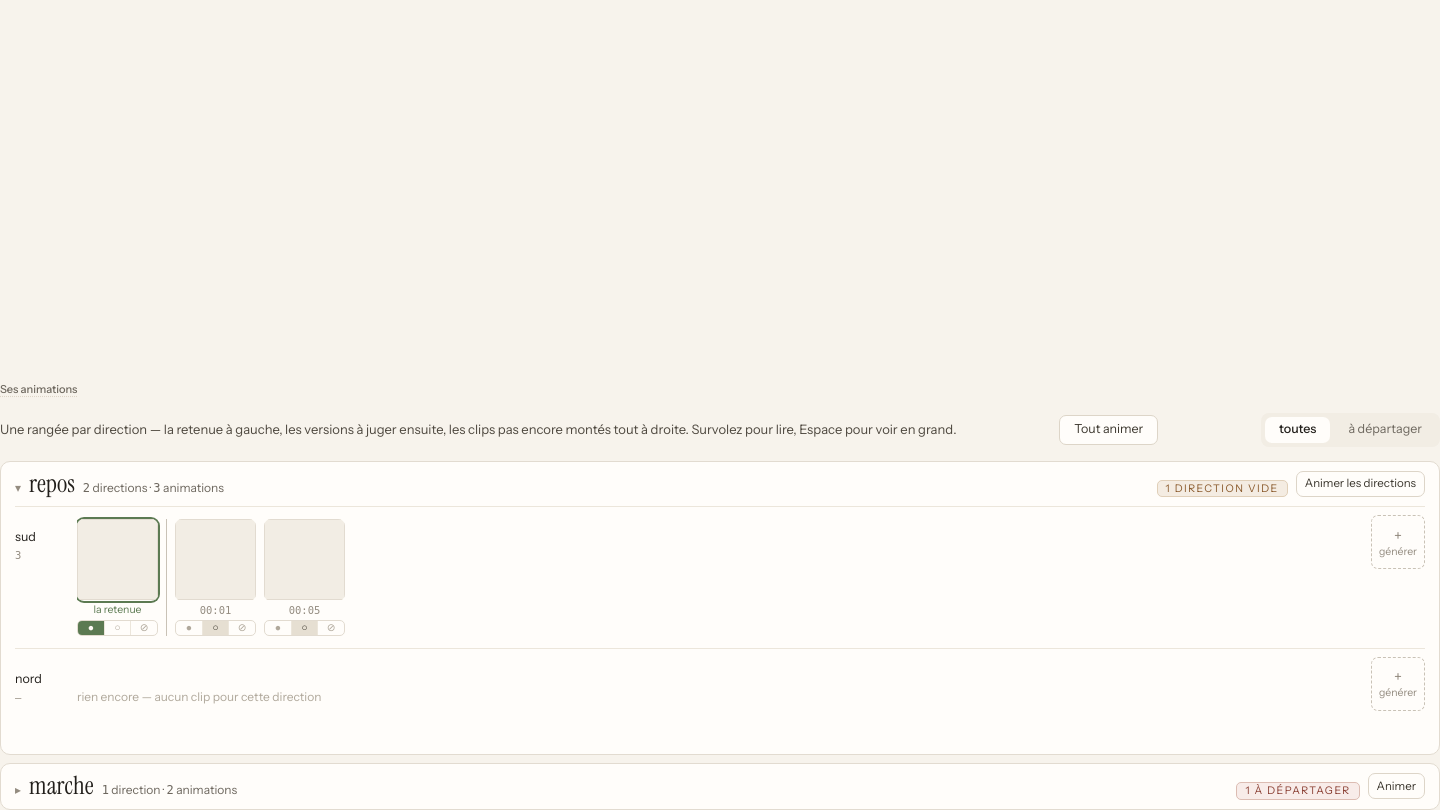
les deux filtres › « à départager » ne garde que les poses où plusieurs bandes se disputent la case
(page scrolled)
Click the tab "à départager" at (1385, 430), box [1334,416,1436,442]
(page scrolled)
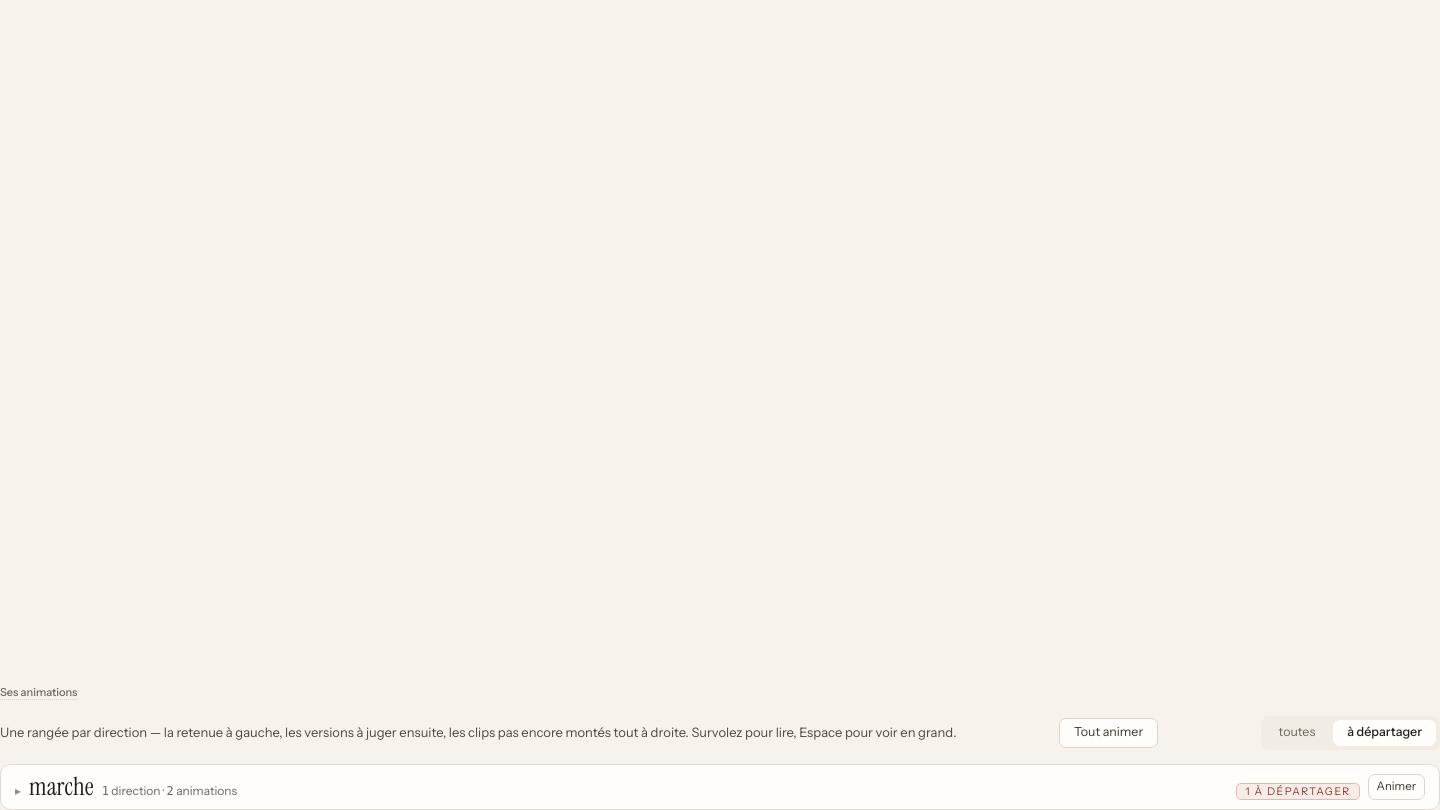
expect the button "▸ marche 1 direction · 2 animations 1 à départager" is shown: met, box [15,764,1360,809]
expect the button "repos" is gone: met
